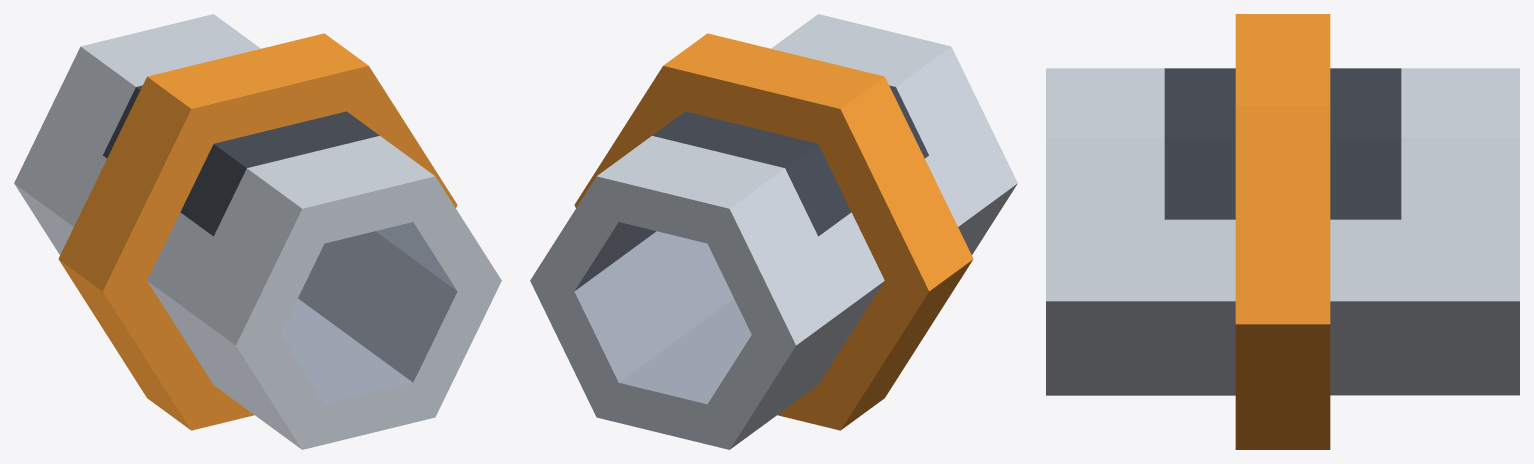
File: pipe_ring.dae
3 views of the same model, side by side, from view 1: azimuth 30°, elevation 25°; view 2: azimuth 150°, elevation 25°; view 3: azimuth 270°, elevation 25° (orthographic). The views are drawn at different scales.
Parts seen in each view (by area): view 1: pipe_ring; view 2: pipe_ring; view 3: pipe_ring.
Boxes of the visible parts, x1=… form: pipe_ring: x1=14, y1=14, x2=501, y2=449; pipe_ring: x1=530, y1=14, x2=1017, y2=449; pipe_ring: x1=1046, y1=14, x2=1519, y2=449.
Bounding box in the file's own units: 0.9238 × 0.8 × 1.
